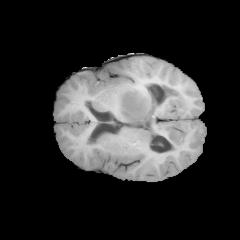glioma: (115, 88, 149, 121)
